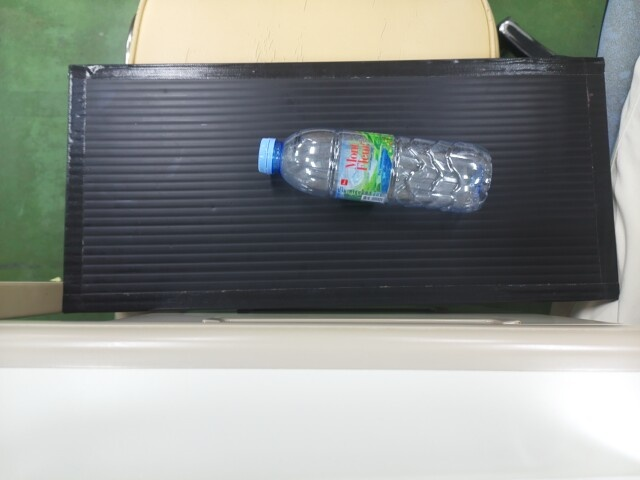plastic_bottle: (253, 120, 493, 211)
